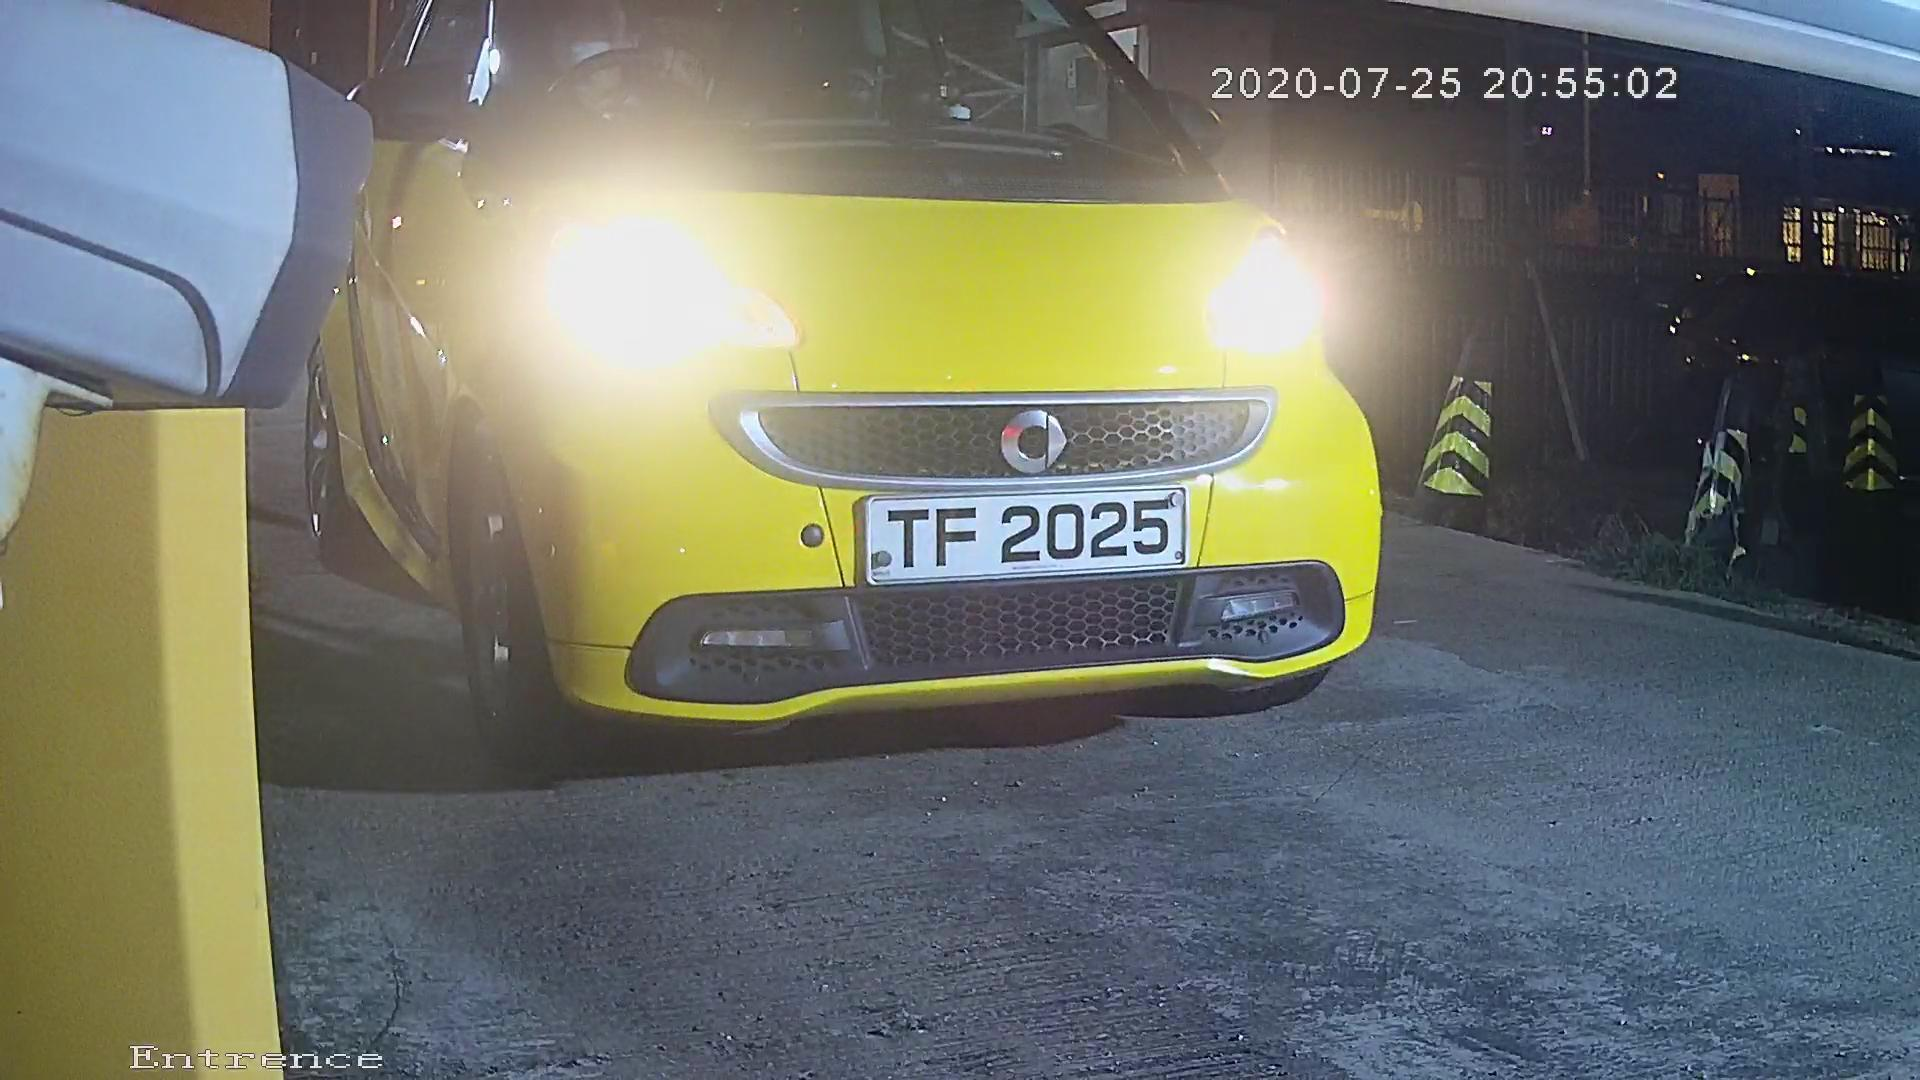privatecar: (290, 3, 1415, 790)
